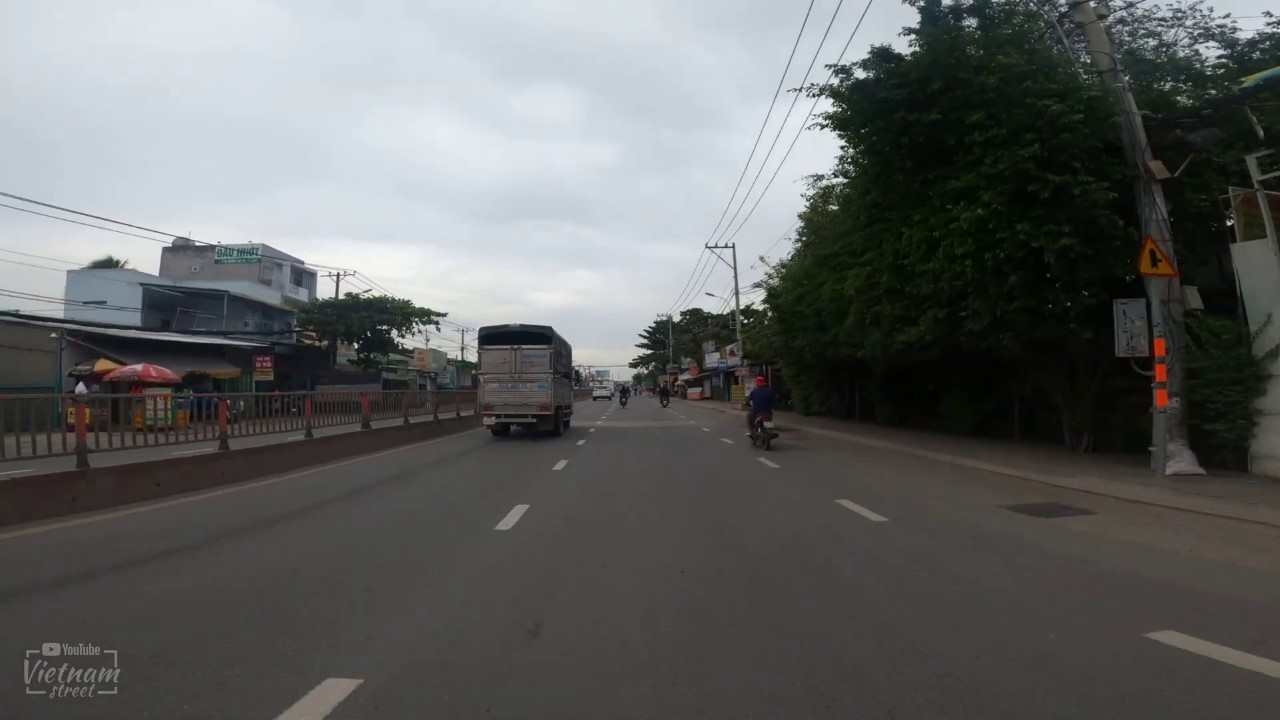giao_khong_uu_tien_phai: (1137, 234, 1180, 278)
